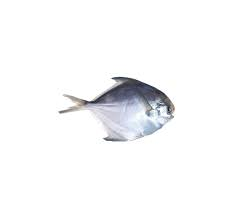Ikan Bawal: (54, 70, 181, 148)
